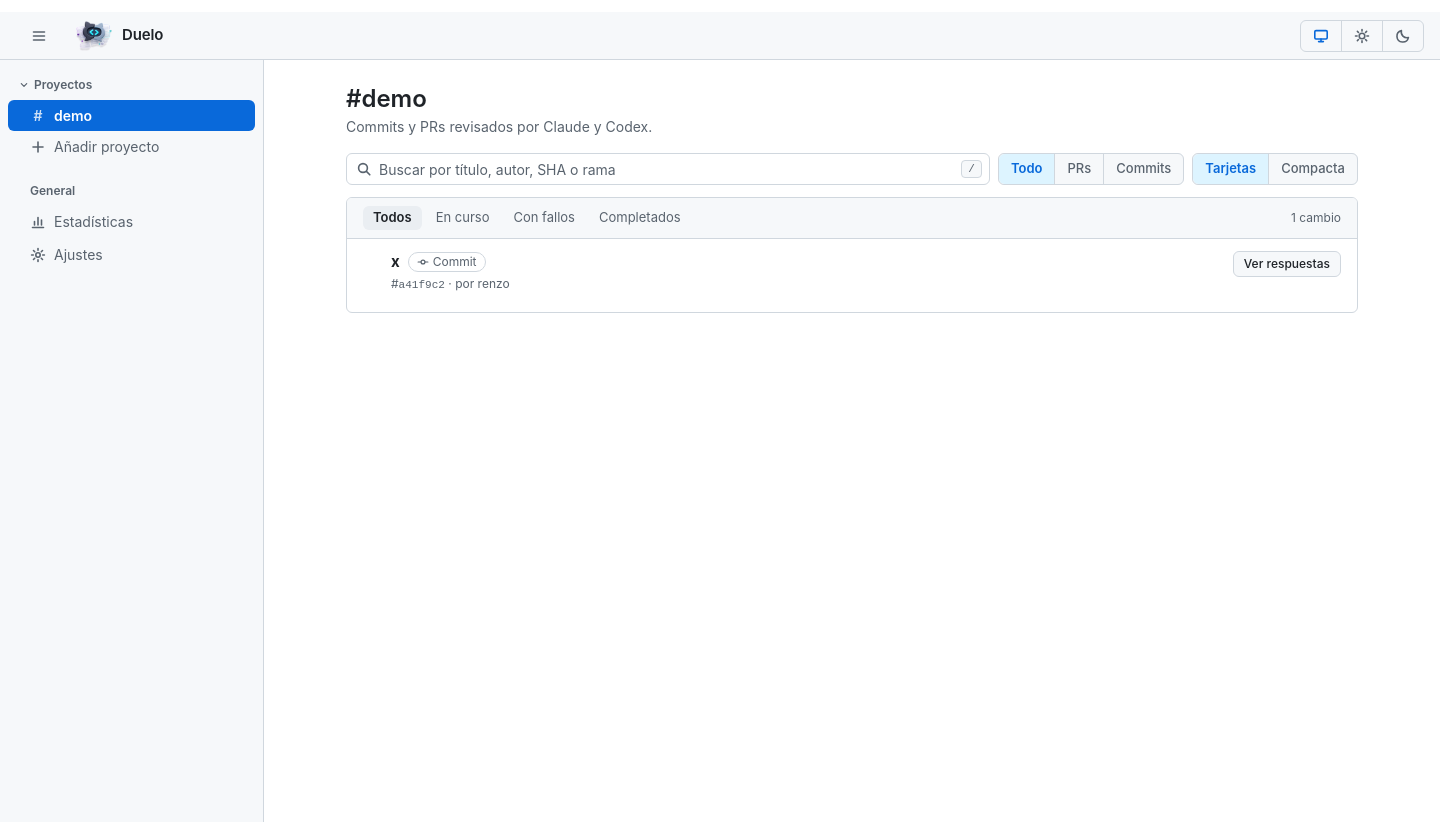
Test case: actionable empty state › does not show it when a filter simply matches nothing
Check: the text "x" is shown, box [391,252,400,270]
Type "zzz" into the search field at (668,169), box [346,153,990,185]
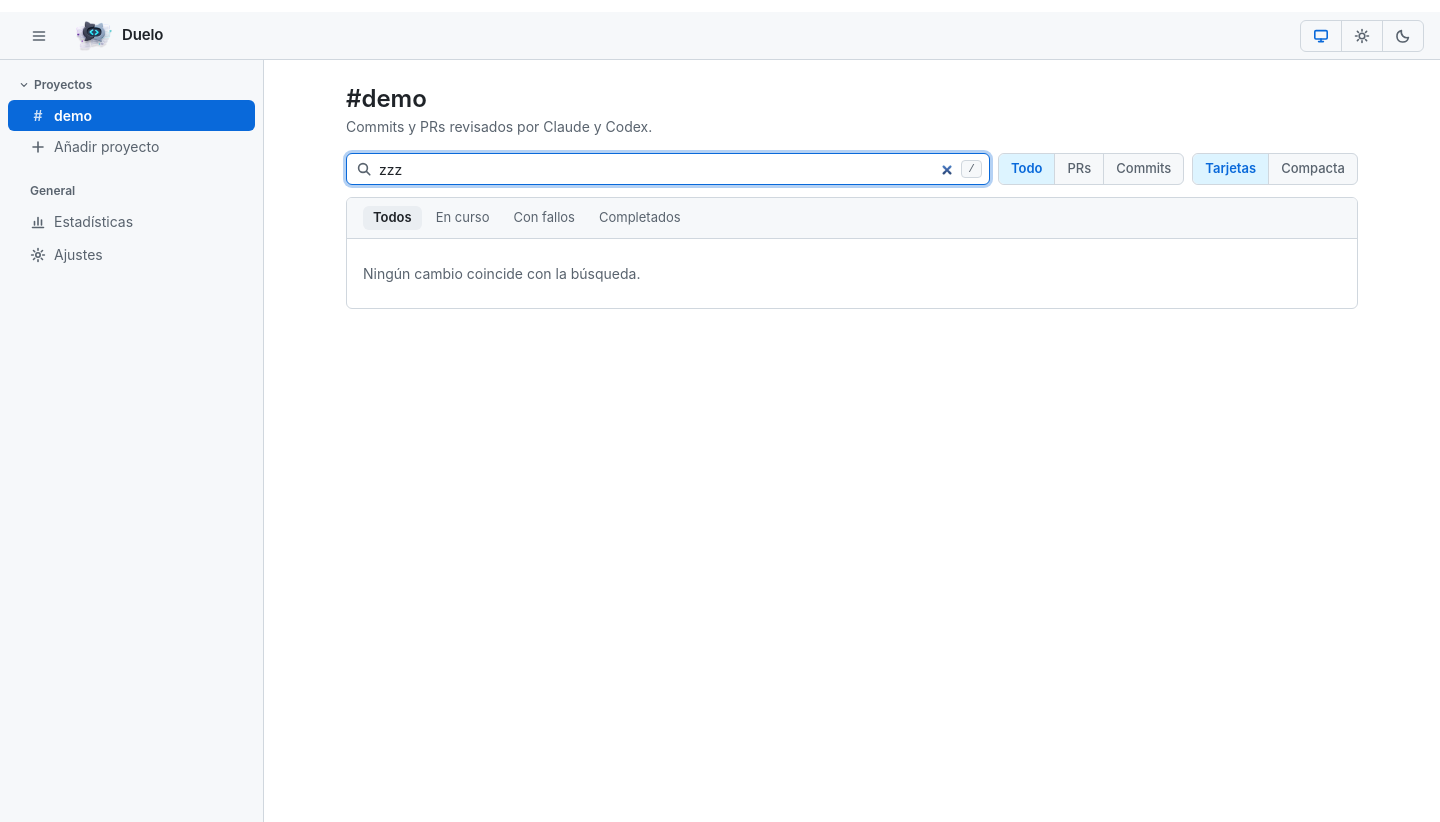
Check: the text "Ningún cambio coincide con la búsqueda." is shown, box [363,264,640,282]
